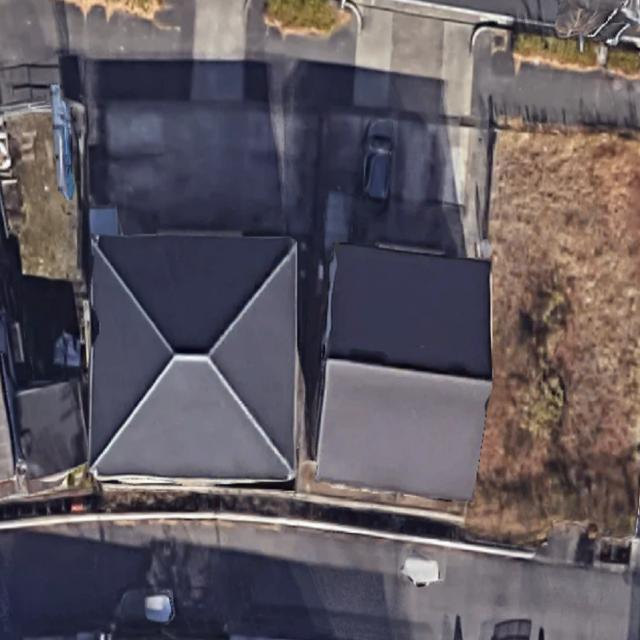Batiment: (89, 235, 298, 480), (318, 244, 491, 499)
